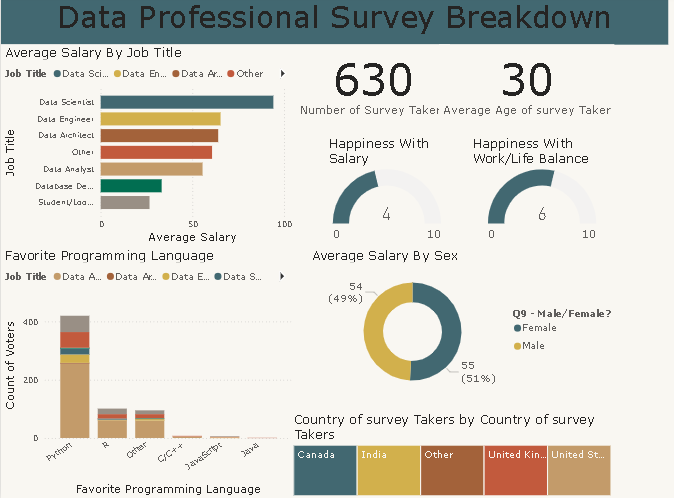

Layout of this report page (visuals, bound fields, positions):
{"tool":"powerbi","page":{"name":"Page 1","canvas":[1280,720],"ordinal":0},"visuals":[{"type":"textbox","box":[0,0,951.4,70.8],"z":0},{"type":"card","fields":{"Values":["CountNonNull(Data Professional Survey.Q9 - Male/Female?)"]},"box":[420.8,70.8,219.4,111.1],"z":1000},{"type":"card","fields":{"Values":["Avg(Data Professional Survey.Q10 - Current Age)"]},"box":[625,70.8,250,111.1],"z":2000},{"type":"barChart","title":"Average Salary By Job Title","fields":{"Category":["Data Professional Survey.Q1 - Which Title Best Fits your Current Role?.1"],"Y":["Avg(Data Professional Survey.Average Salary)"],"Series":["Data Professional Survey.Q1 - Which Title Best Fits your Current Role?.1"]},"box":[0,70.2,421.1,289.5],"z":3000},{"type":"columnChart","title":"Favorite Programming Language","fields":{"Category":["Data Professional Survey.Q5 - Favorite Programming Language.1"],"Y":["CountNonNull(Data Professional Survey.Q9 - Male/Female?)"],"Series":["Data Professional Survey.Q1 - Which Title Best Fits your Current Role?.1"]},"box":[0,359.7,420.8,359.7],"z":4000},{"type":"treemap","fields":{"Group":["Data Professional Survey.Q11 - Which Country do you live in?.1"],"Values":["Count(Data Professional Survey.Q11 - Which Country do you live in?.1)"]},"box":[412.5,594.4,462.5,125],"z":5000},{"type":"gauge","title":"Happiness With Work/Life Balance","fields":{"Y":["Avg(Data Professional Survey.Q6 - How Happy are you in your Current Position with the following? (Work/Life Balance))"],"MaxValue":["Max(Data Professional Survey.Q6 - How Happy are you in your Current Position with the following? (Work/Life Balance))1"],"MinValue":["Min(Data Professional Survey.Q6 - How Happy are you in your Current Position with the following? (Work/Life Balance))2"]},"box":[666.7,200,208.3,159.7],"z":6000},{"type":"gauge","title":"Happiness With Salary","fields":{"Y":["Avg(Data Professional Survey.Q6 - How Happy are you in your Current Position with the following? (Salary))"],"MinValue":["Min(Data Professional Survey.Q6 - How Happy are you in your Current Position with the following? (Salary))"],"MaxValue":["Max(Data Professional Survey.Q6 - How Happy are you in your Current Position with the following? (Salary))"]},"box":[462.5,200,176.4,159.7],"z":7000},{"type":"donutChart","title":"Average Salary By Sex","fields":{"Category":["Data Professional Survey.Q9 - Male/Female?"],"Y":["Avg(Data Professional Survey.Average Salary)"]},"box":[437.5,359.7,437.5,219.4],"z":7001}]}

Visuals, with their boxes on the page's 1280x720 design canvas (x1, y1, x2, y2). These are canvas units, not pixel positions in the 674x498 screenshot, which may show the page scaled, cropped or inside an application window:
textbox: rect(0, 0, 951, 71)
card - CountNonNull(Data Professional Survey.Q9 - Male/Female?): rect(421, 71, 640, 182)
card - Avg(Data Professional Survey.Q10 - Current Age): rect(625, 71, 875, 182)
"Average Salary By Job Title" barChart: rect(0, 70, 421, 360)
"Favorite Programming Language" columnChart: rect(0, 360, 421, 719)
treemap - Data Professional Survey.Q11 - Which Country do you live in?.1 x Count(Data Professional Survey.Q11 - Which Country do you live in?.1): rect(412, 594, 875, 719)
"Happiness With Work/Life Balance" gauge: rect(667, 200, 875, 360)
"Happiness With Salary" gauge: rect(462, 200, 639, 360)
"Average Salary By Sex" donutChart: rect(438, 360, 875, 579)
